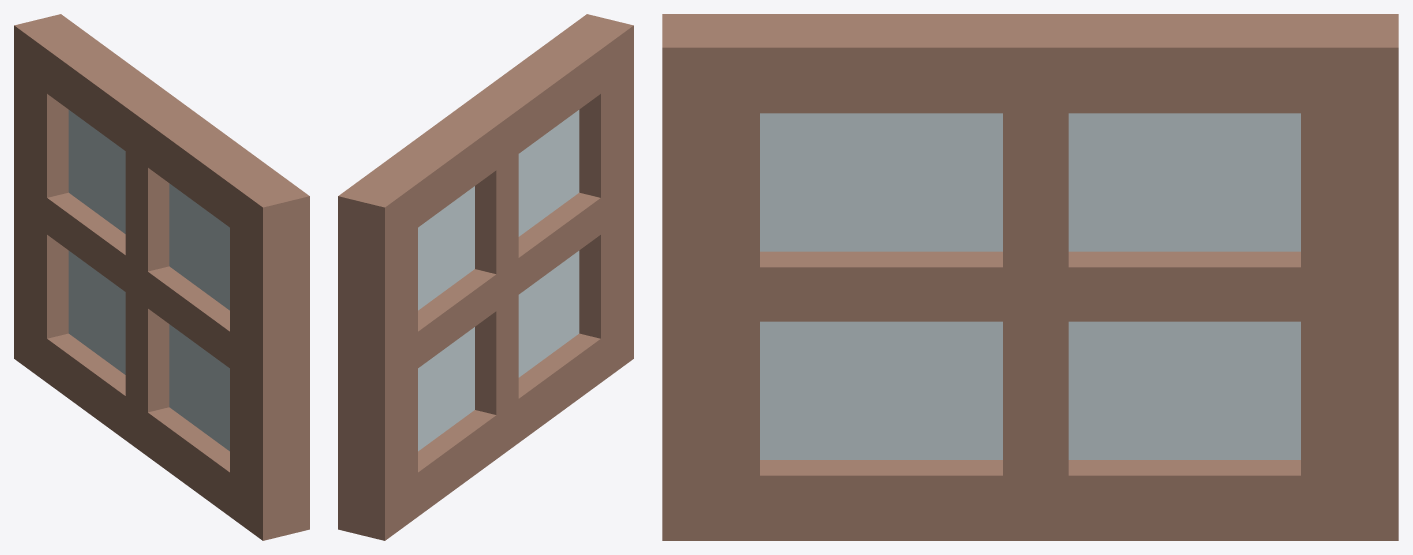
The model's file is Window_Medium.fbx.
3 views of the same model, side by side, from view 1: azimuth 30°, elevation 25°; view 2: azimuth 150°, elevation 25°; view 3: azimuth 270°, elevation 25° (orthographic). The views are drawn at different scales.
Visible parts, largest first — view 1: Widow_Small; view 2: Widow_Small; view 3: Widow_Small.
Boxes of the visible parts, <box> form: Widow_Small: <box>14,14,309,540</box>; Widow_Small: <box>338,14,633,540</box>; Widow_Small: <box>662,14,1398,540</box>.
Bounding box in the file's own units: 230 × 24.99 × 170.
